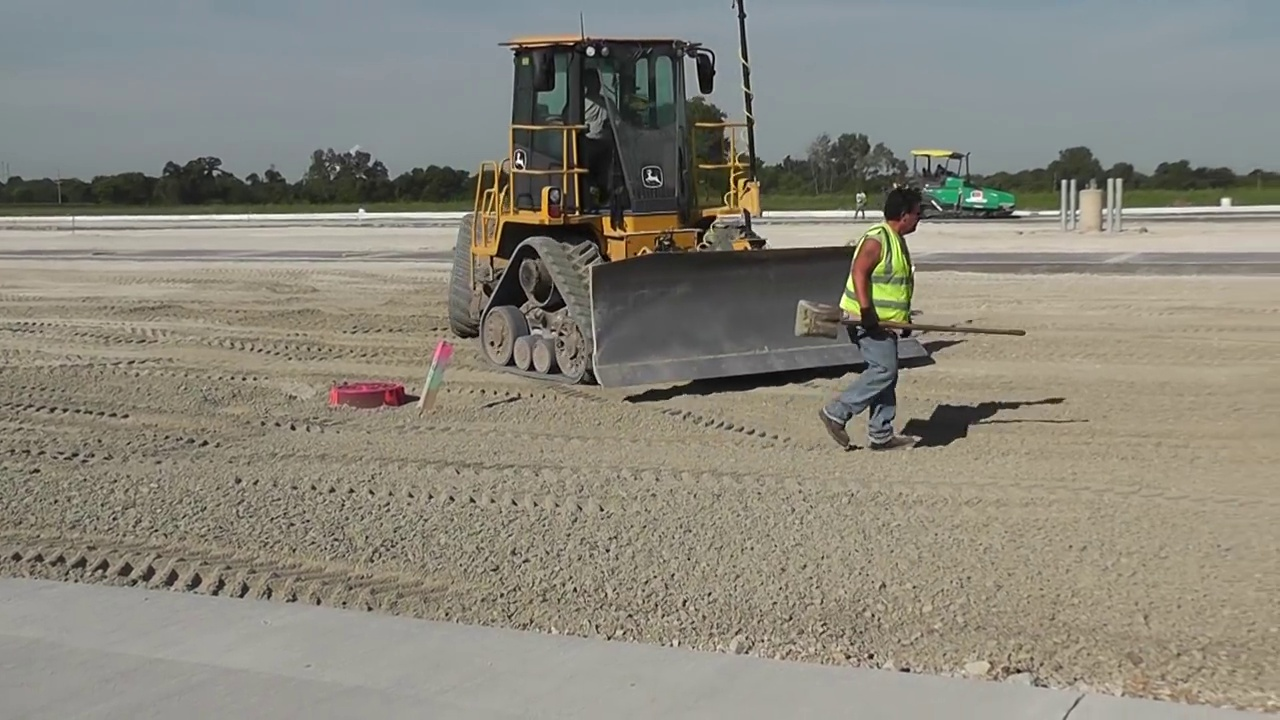bulldozer: (448, 32, 933, 387)
person: (823, 185, 923, 453), (573, 64, 626, 204), (850, 190, 868, 218)
